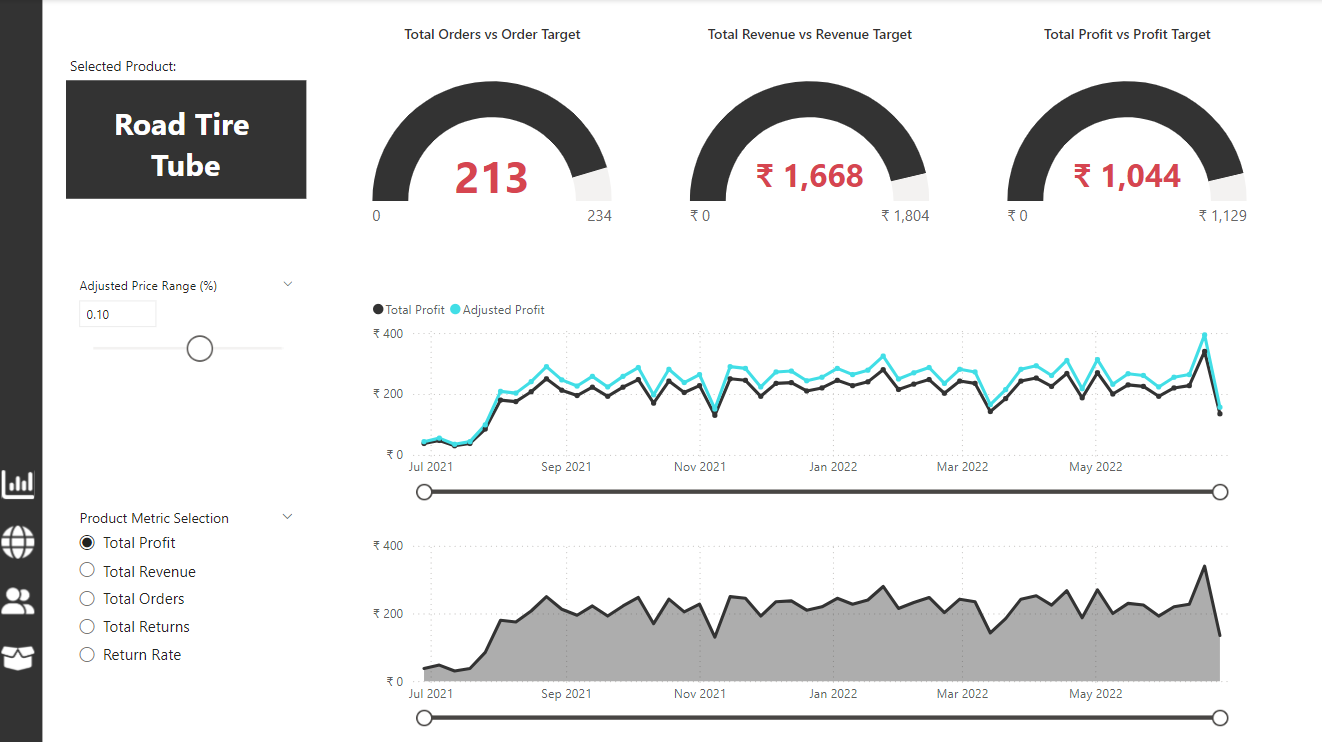

The dashboard page shown, as its layout file describes it:
{"tool":"powerbi","page":{"name":"Product Detail","canvas":[1280,720],"ordinal":2},"visuals":[{"type":"shape","box":[0,0,45,720],"z":0},{"type":"actionButton","box":[1.2,448.8,44.6,39.8],"z":0,"group":"g1"},{"type":"gauge","title":"Total Orders vs Order Target","fields":{"Y":["Measure Table.Total Orders"],"MaxValue":["Measure Table.Order Target"]},"box":[358.3,24.1,241.3,238.9],"z":1000},{"type":"actionButton","box":[1.2,504.7,44.6,39.8],"z":1000,"group":"g1"},{"type":"gauge","title":"Total Revenue vs Revenue Target","fields":{"Y":["Measure Table.Total Revenue"],"MaxValue":["Measure Table.Revenue Target"]},"box":[664.7,24.1,241.3,238.9],"z":2000},{"type":"actionButton","box":[1.2,616.5,44.6,39.8],"z":2000,"group":"g1"},{"type":"gauge","title":"Total Profit vs Profit Target","fields":{"Y":["Measure Table.Total Profit"],"MaxValue":["Measure Table.Profit Target"]},"box":[971.2,24.1,241.3,238.9],"z":3000},{"type":"actionButton","box":[1.2,560.6,44.6,39.8],"z":3000,"group":"g1"},{"type":"lineChart","title":"Profit Trending","fields":{"Category":["Calendar Lookup.Date Hierarchy.Start of Year","Calendar Lookup.Date Hierarchy.Start of Month","Calendar Lookup.Date Hierarchy.Start of Week","Calendar Lookup.Date Hierarchy.Date"],"Y":["Measure Table.Total Profit","Measure Table.Adjusted Profit"]},"box":[358.3,279.9,854.2,206.3],"z":4000},{"type":"areaChart","title":"Returns Trending","fields":{"Y":["Measure Table.Total Profit"],"Category":["Calendar Lookup.Date Hierarchy.Start of Year","Calendar Lookup.Date Hierarchy.Start of Month","Calendar Lookup.Date Hierarchy.Start of Week","Calendar Lookup.Date Hierarchy.Date"]},"box":[358.3,513.9,854.2,190.6],"z":5000},{"type":"card","fields":{"Values":["Min(Product Lookup.ProductName)"]},"box":[67.6,78.4,231.6,114.6],"z":6000},{"type":"textbox","box":[66.4,50.7,148.4,36.2],"z":7000},{"type":"group","id":"g1","title":"Nav Buttons","box":[1.2,448.8,44.6,207.5],"z":8000},{"type":"slicer","fields":{"Values":["Adjusted Price Range (%).Adjusted Price Range (%)"]},"box":[67.6,263,231.6,120.6],"z":9000},{"type":"slicer","fields":{"Values":["Product Metric Selection.Product Metric Selection"]},"box":[67.6,486.2,231.6,196.6],"z":10000}]}

Visuals, with their boxes on the page's 1280x720 design canvas (x1, y1, x2, y2). These are canvas units, not pixel positions in the 1322x742 screenshot, which may show the page scaled, cropped or inside an application window:
shape: [left=0, top=0, right=45, bottom=720]
actionButton: [left=1, top=449, right=46, bottom=489]
"Total Orders vs Order Target" gauge: [left=358, top=24, right=600, bottom=263]
actionButton: [left=1, top=505, right=46, bottom=544]
"Total Revenue vs Revenue Target" gauge: [left=665, top=24, right=906, bottom=263]
actionButton: [left=1, top=616, right=46, bottom=656]
"Total Profit vs Profit Target" gauge: [left=971, top=24, right=1212, bottom=263]
actionButton: [left=1, top=561, right=46, bottom=600]
"Profit Trending" lineChart: [left=358, top=280, right=1212, bottom=486]
"Returns Trending" areaChart: [left=358, top=514, right=1212, bottom=704]
card - Min(Product Lookup.ProductName): [left=68, top=78, right=299, bottom=193]
textbox: [left=66, top=51, right=215, bottom=87]
"Nav Buttons" group: [left=1, top=449, right=46, bottom=656]
slicer - Adjusted Price Range (%).Adjusted Price Range (%): [left=68, top=263, right=299, bottom=384]
slicer - Product Metric Selection.Product Metric Selection: [left=68, top=486, right=299, bottom=683]
